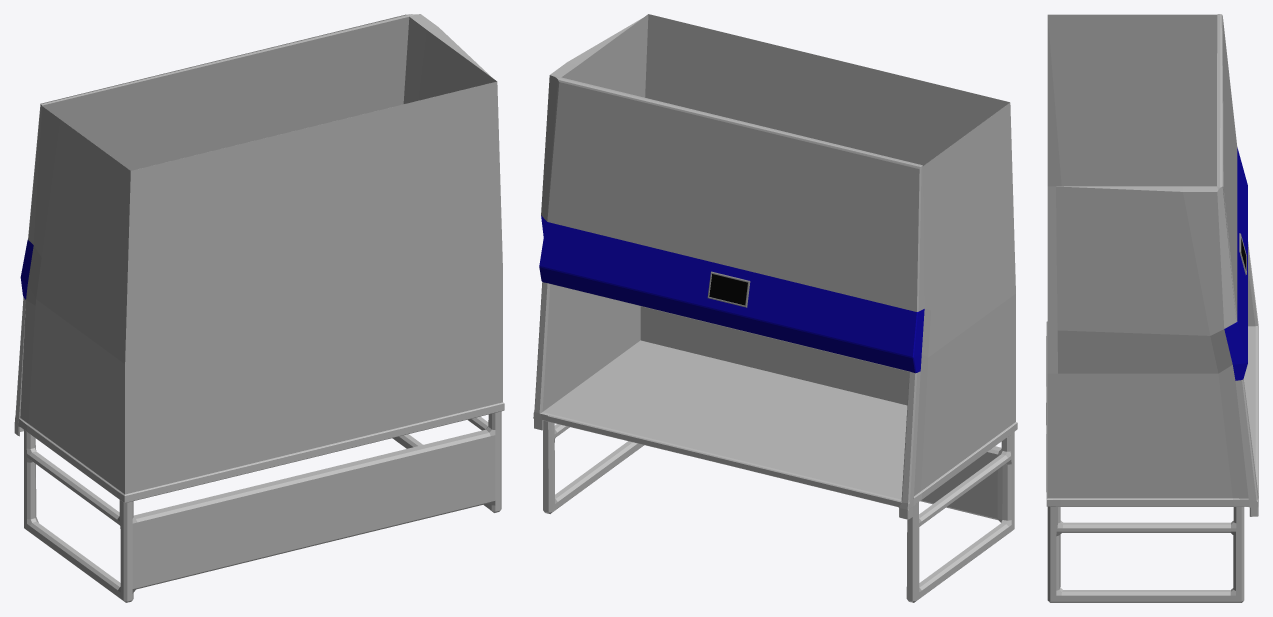
Rendered from ART_BiologicalSafetyCabinent.fbx.
The picture shows the model from 3 angles, left to right: view 1: azimuth 30°, elevation 25°; view 2: azimuth 150°, elevation 25°; view 3: azimuth 270°, elevation 25°; orthographic projection. The views are drawn at different scales.
Parts seen in each view (by area): view 1: Cube; view 2: Cube; view 3: Cube.
Boxes of the visible parts, x1=… form: Cube: x1=14, y1=14, x2=504, y2=602; Cube: x1=533, y1=14, x2=1017, y2=602; Cube: x1=1046, y1=14, x2=1258, y2=602.
Bounding box in the file's own units: 207 × 219 × 102.
